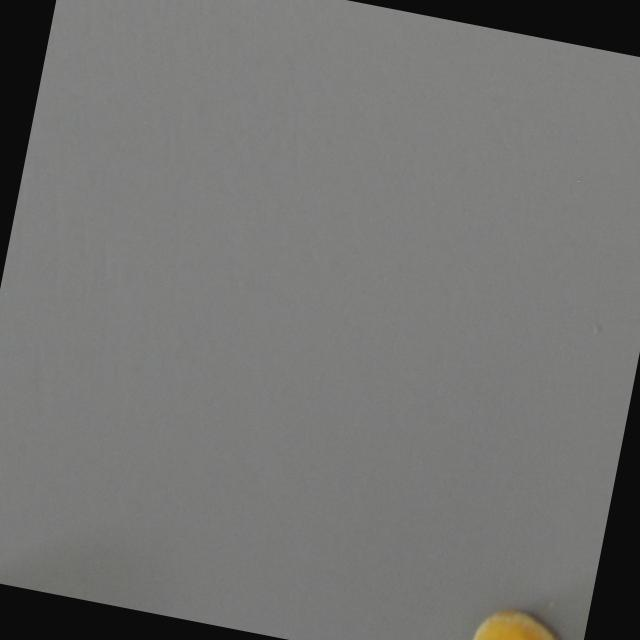pelicula: (454, 591, 574, 640)
